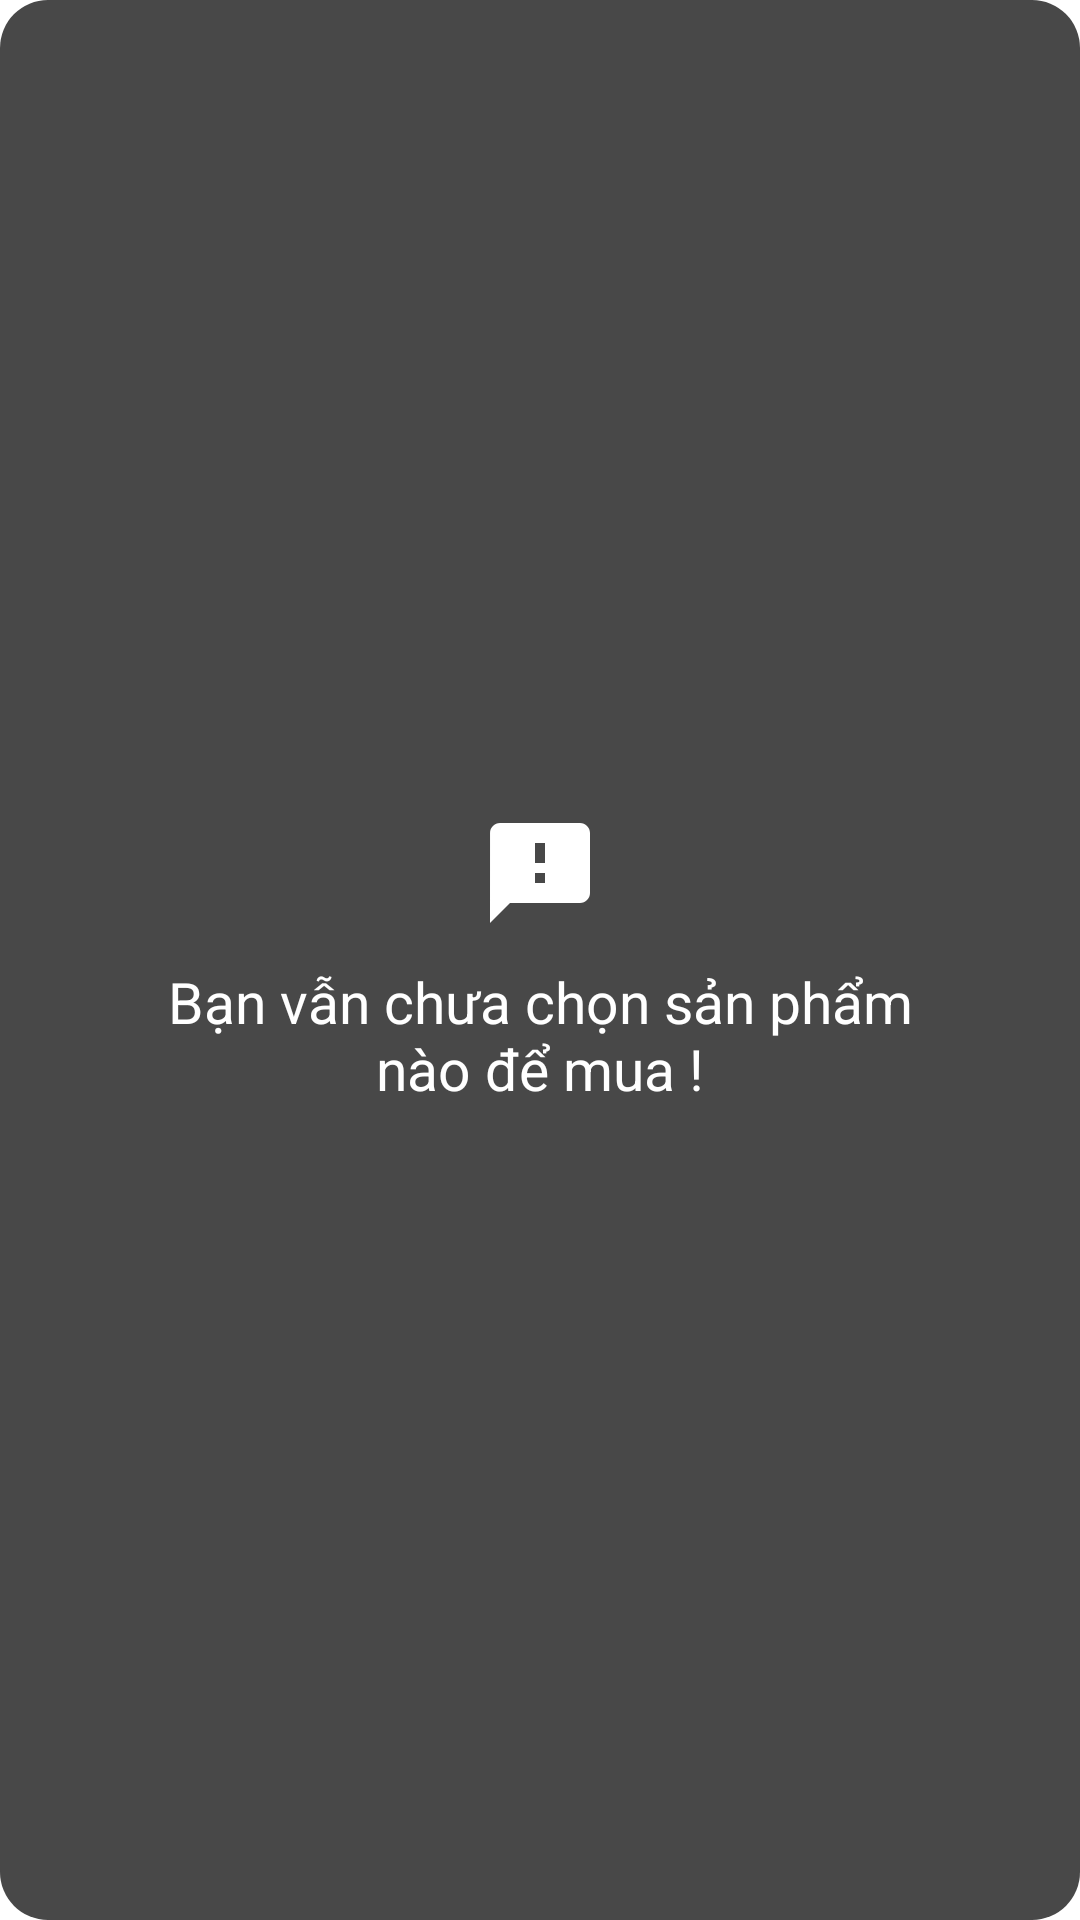

Where icons sit on this 1080px×1920px app screen, as bbox=(x1, y1, x2, y2):
feedback: bbox=(490, 823, 590, 923)
